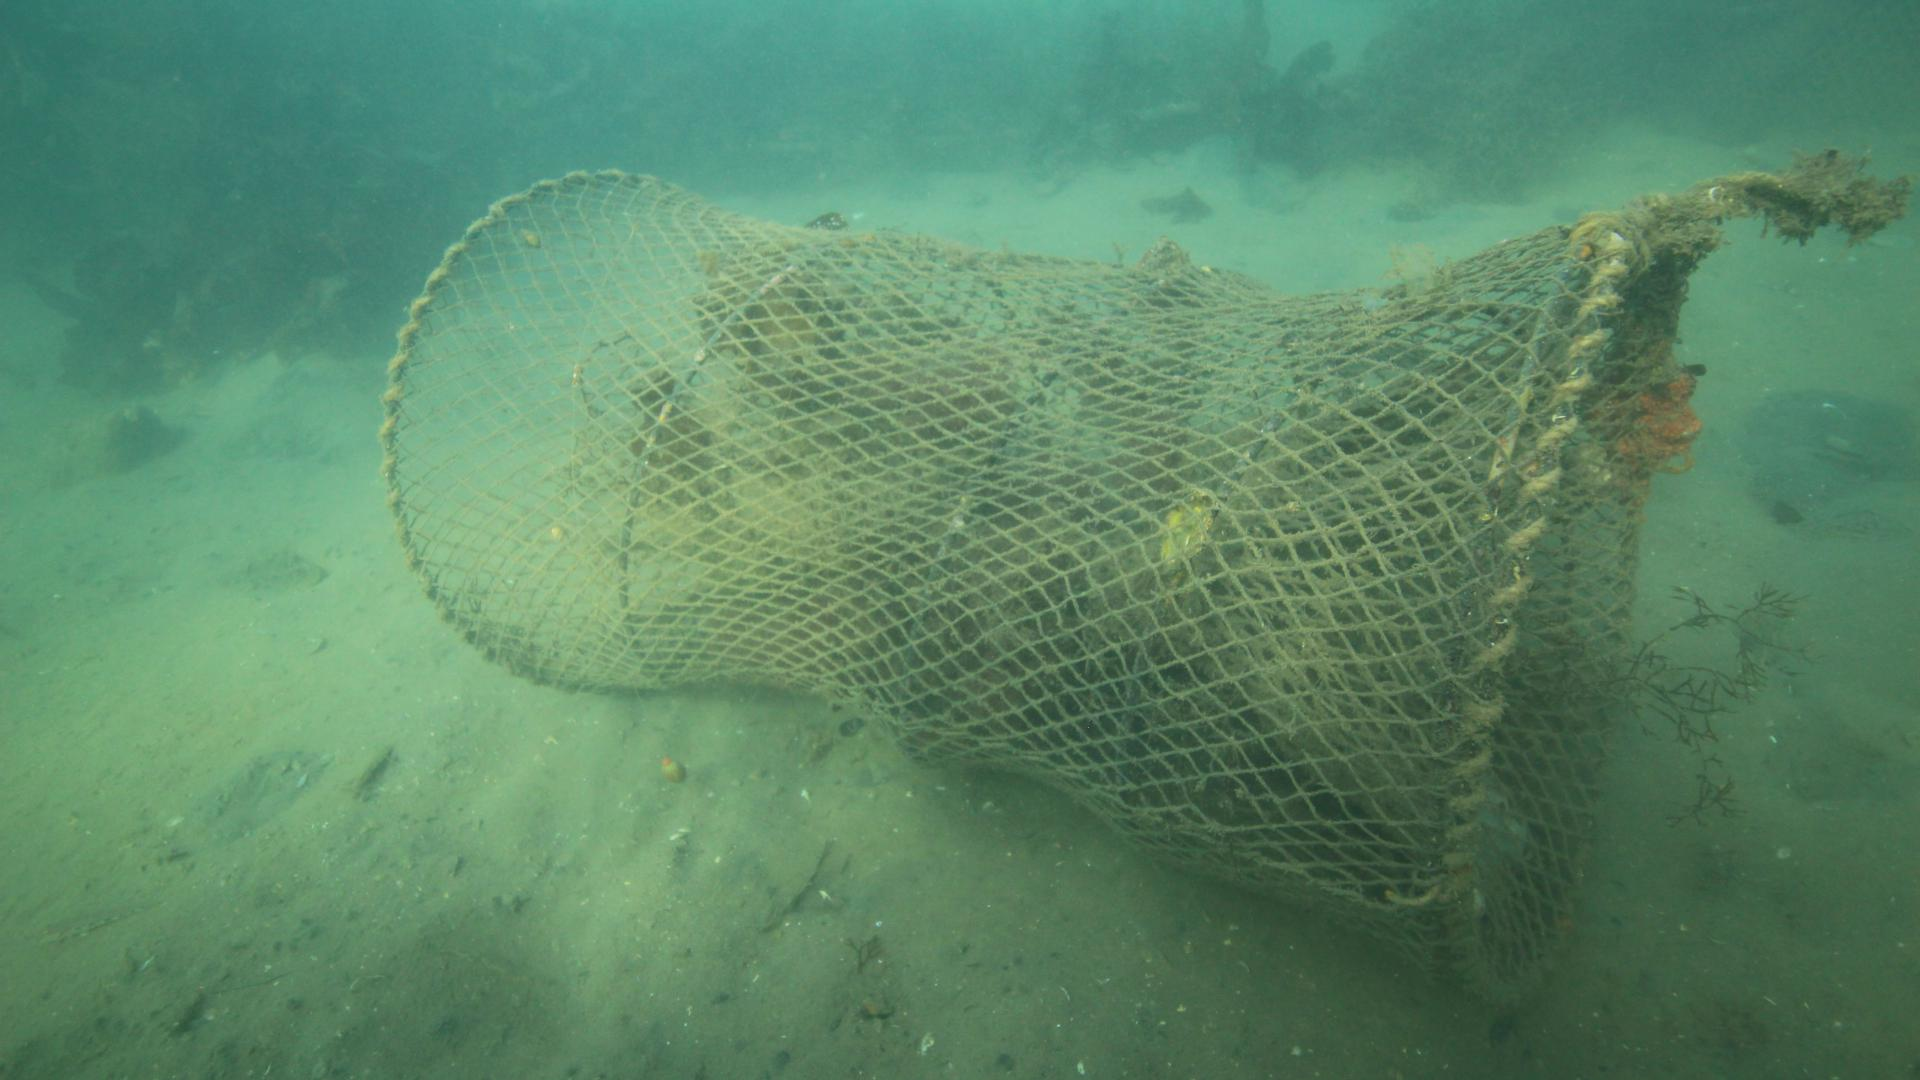spring fish trap: (381, 166, 1662, 1015)
